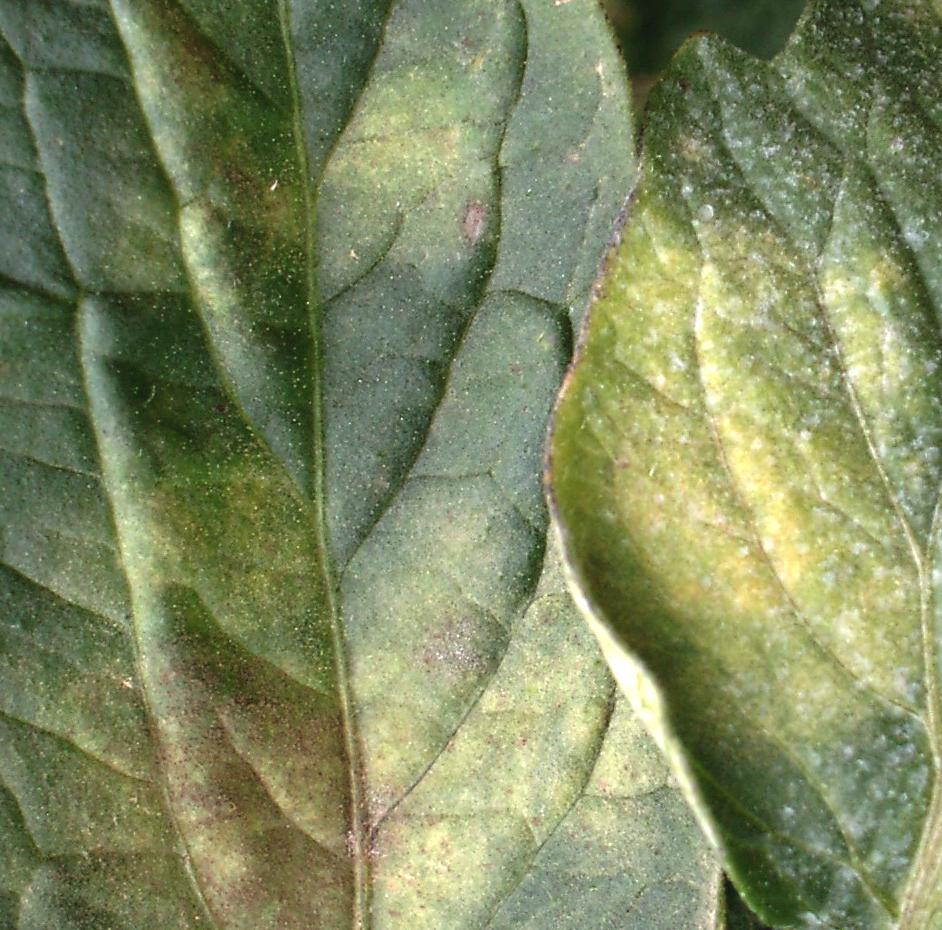Tomato mold leaf: (0, 0, 723, 930), (552, 0, 942, 930)
